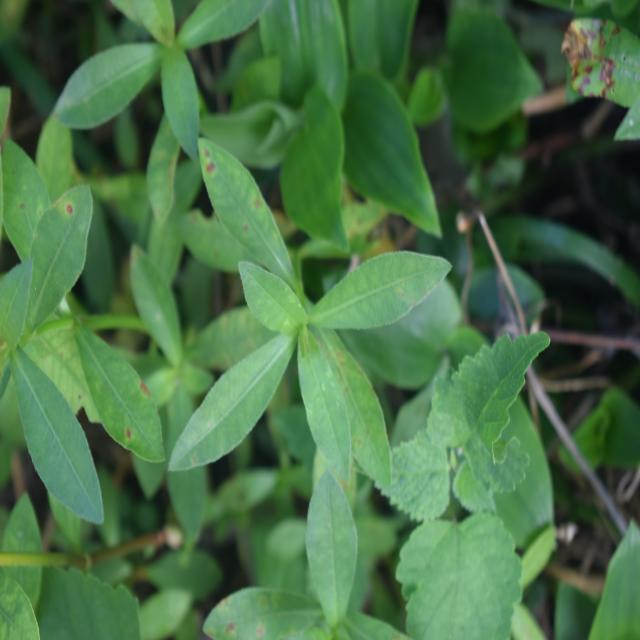Alligatorweed: (176, 146, 407, 524), (0, 158, 178, 525)
